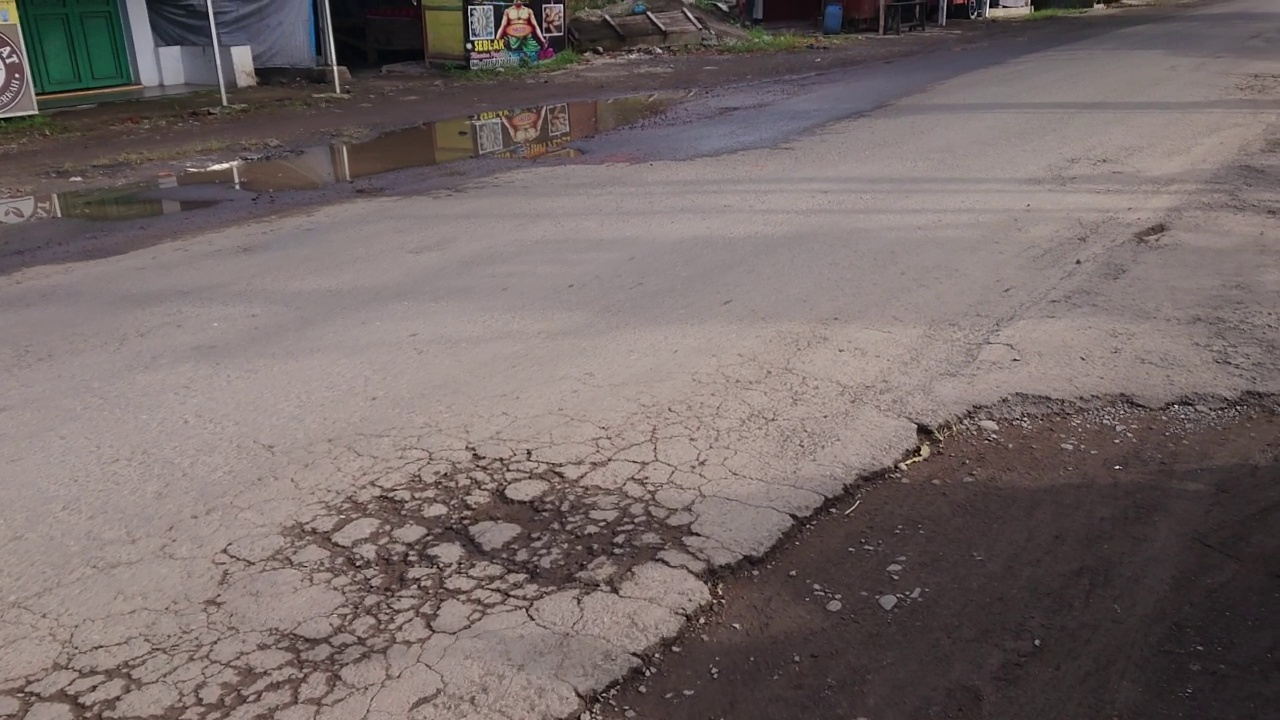Retak: (156, 396, 732, 720), (703, 340, 841, 453), (1152, 268, 1280, 378)
